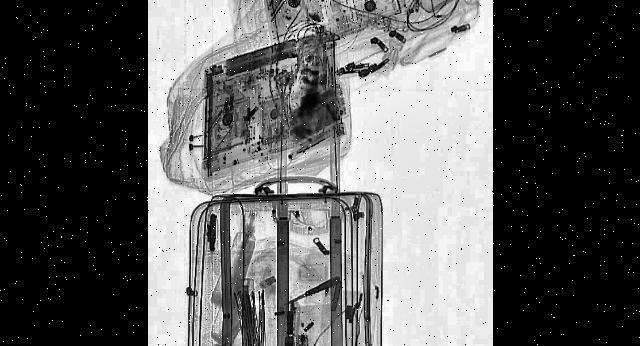Knife: (281, 273, 337, 309)
